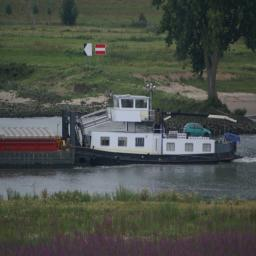tugboat: (61, 82, 243, 172)
